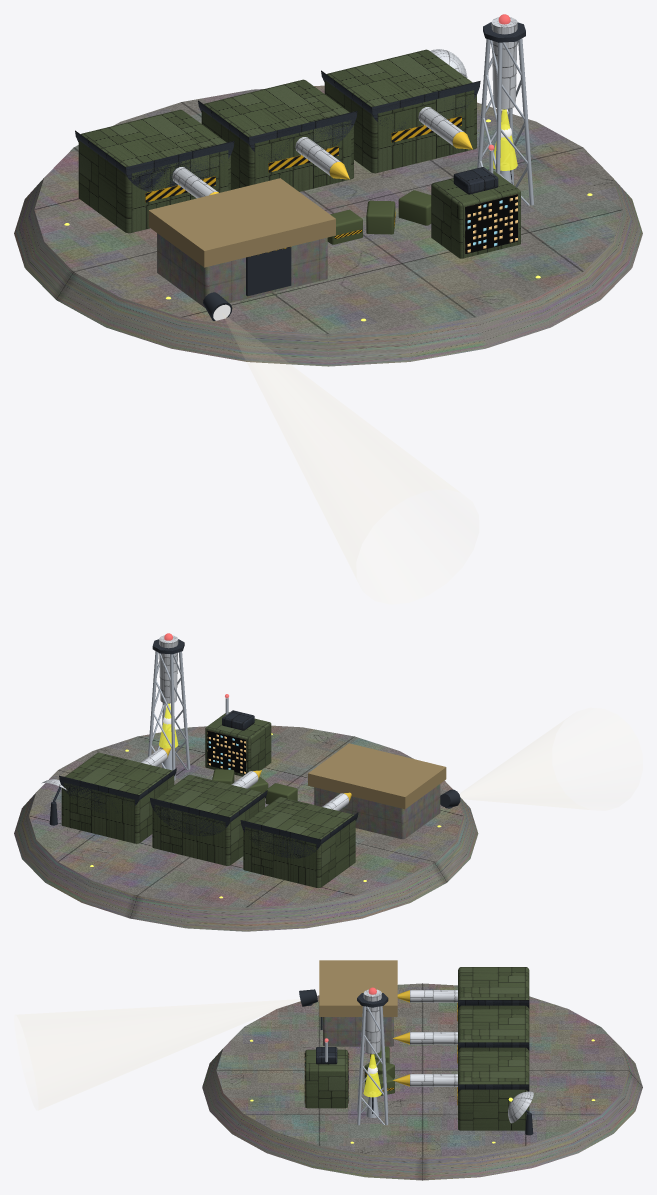
Rendered from ammo-T4.glb.
3 renders of one model, top to bottom at view 1: azimuth 30°, elevation 25°; view 2: azimuth 150°, elevation 25°; view 3: azimuth 270°, elevation 25°, orthographic. The views are drawn at different scales.
Parts seen in each view (by area): view 1: object 1, object 22, object 12, object 28, object 17, object 27, object 73, object 74, object 13, object 18, object 29, object 65 (+4 smaller); view 2: object 1, object 12, object 22, object 17, object 28, object 27, object 73, object 18, object 13, object 75, object 23, object 65 (+3 smaller); view 3: object 1, object 22, object 28, object 17, object 12, object 73, object 27, object 65, object 15, object 20, object 25, anim:rot (+5 smaller).
Part boxes in pixels (<box>): object 1: <box>14,85,642,366</box>; object 22: <box>324,49,476,173</box>; object 12: <box>78,109,230,233</box>; object 28: <box>148,178,335,267</box>; object 17: <box>201,79,353,191</box>; object 27: <box>157,233,327,307</box>; object 73: <box>431,169,520,258</box>; object 74: <box>465,194,517,253</box>; object 13: <box>75,130,234,191</box>; object 18: <box>198,100,357,161</box>; object 29: <box>246,247,291,296</box>; object 65: <box>491,17,517,109</box>; object 1: <box>14,725,478,931</box>; object 12: <box>243,797,355,887</box>; object 22: <box>61,752,174,843</box>; object 17: <box>152,775,264,865</box>; object 28: <box>308,743,446,809</box>; object 27: <box>314,784,440,839</box>; object 73: <box>205,712,271,776</box>; object 18: <box>150,790,267,836</box>; object 13: <box>240,812,358,858</box>; object 75: <box>207,730,246,774</box>; object 23: <box>59,768,176,813</box>; object 65: <box>159,635,178,703</box>; object 1: <box>202,983,642,1180</box>; object 22: <box>458,1051,529,1130</box>; object 28: <box>319,960,397,1016</box>; object 17: <box>458,1009,529,1053</box>; object 12: <box>458,967,529,1011</box>; object 73: <box>305,1049,347,1108</box>; object 27: <box>323,1017,393,1046</box>; object 65: <box>363,989,381,1054</box>; object 15: <box>410,990,457,1002</box>; object 20: <box>410,1032,457,1044</box>; object 25: <box>410,1074,457,1086</box>; anim:rot: <box>508,1091,533,1123</box>.
Bounding box in the file's own units: 6.2 × 3.61 × 8.85.
19 materials, 7 textured.
